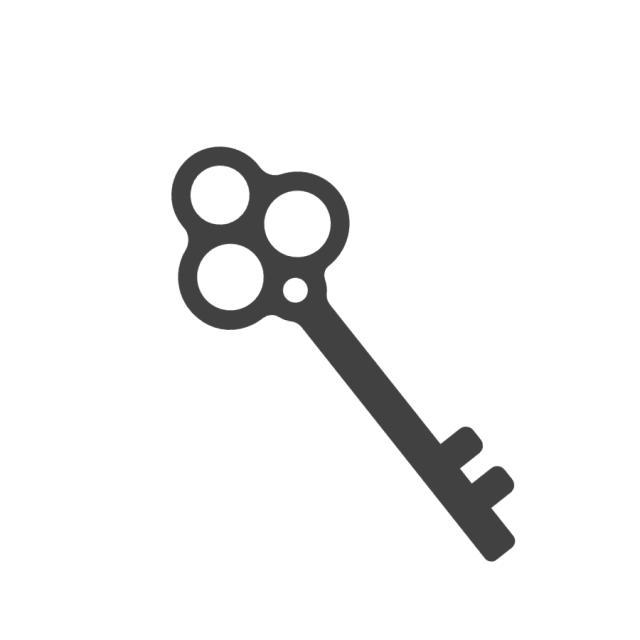key: (162, 142, 524, 575)
